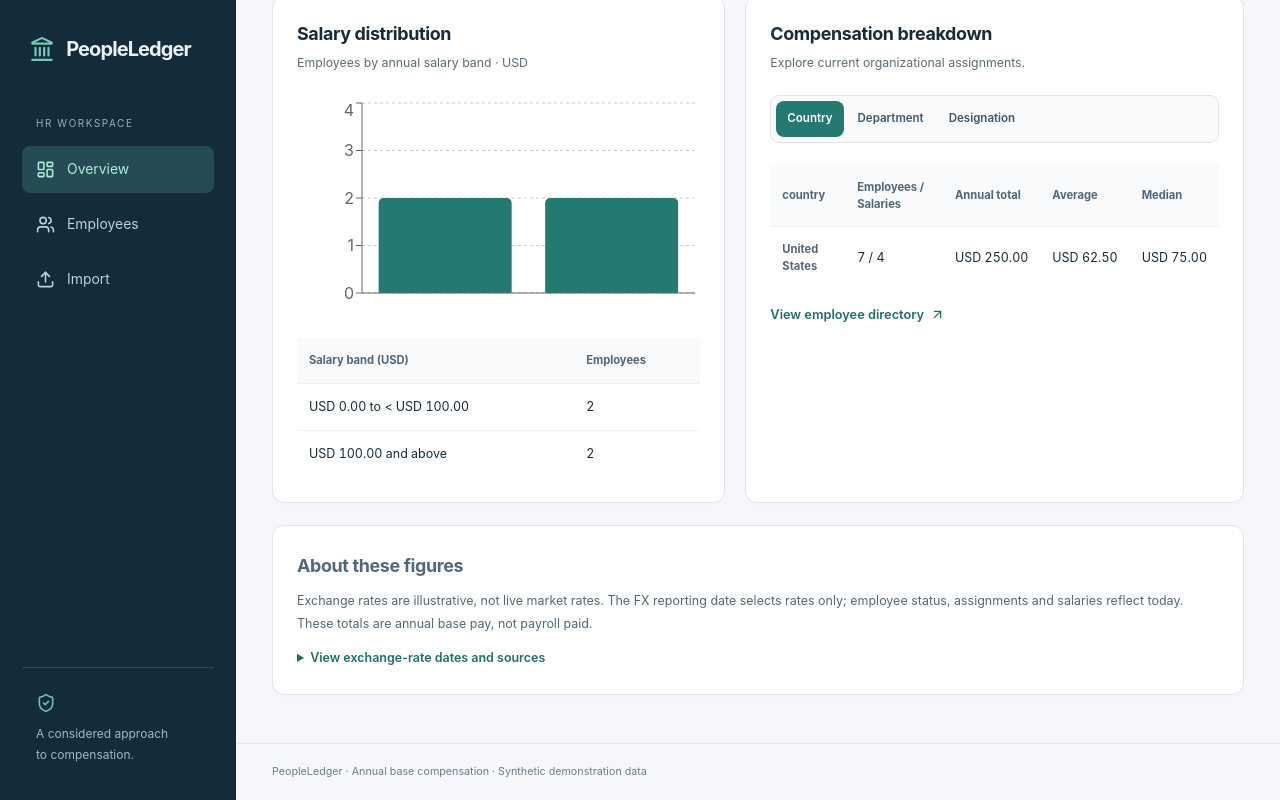
Scenario: analytics UI › renders actual API summary, coverage counts and FX metadata
(page scrolled)
What coordinates should you click on to do the following:
click the heading "View exchange-rate dates and sources"
I would click on:
 (428, 658)
Its box is [310,650,545,665].
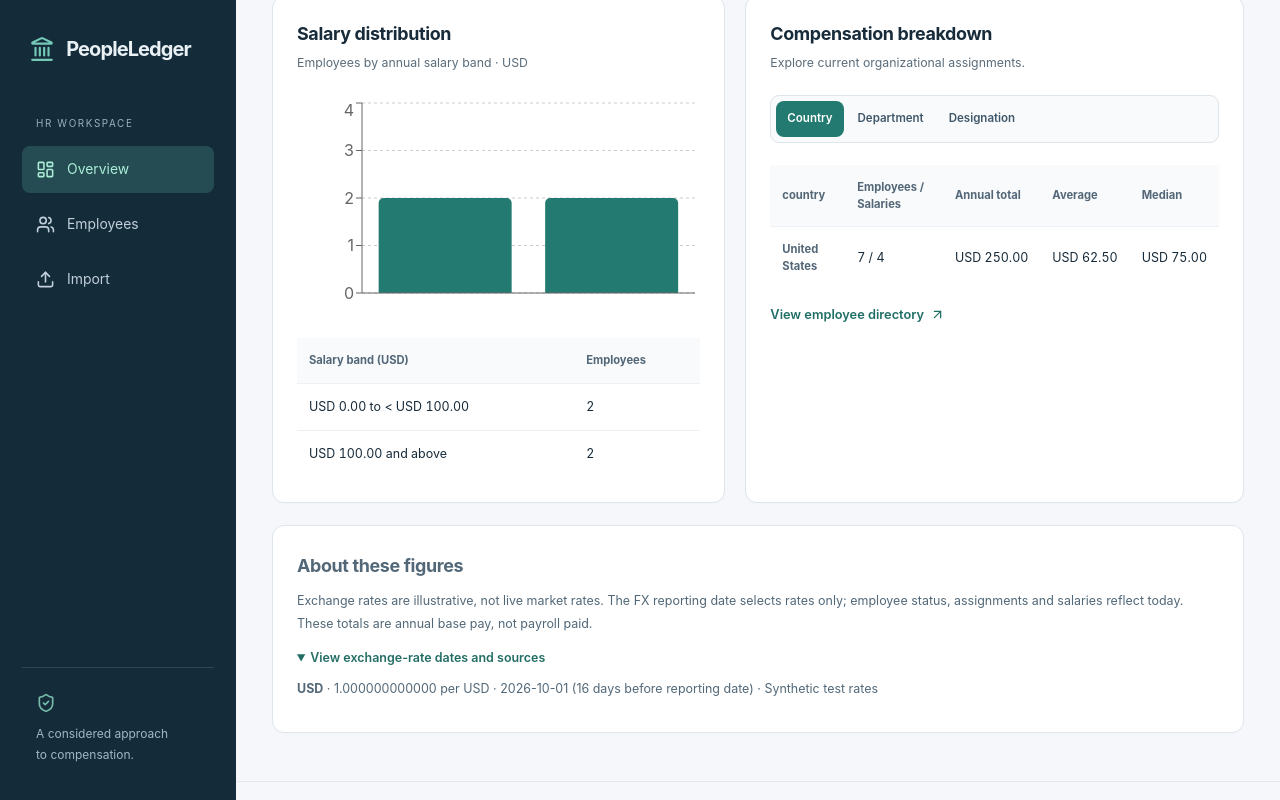
Result: the list item "Synthetic test rates" is shown at [764,681,878,696]
